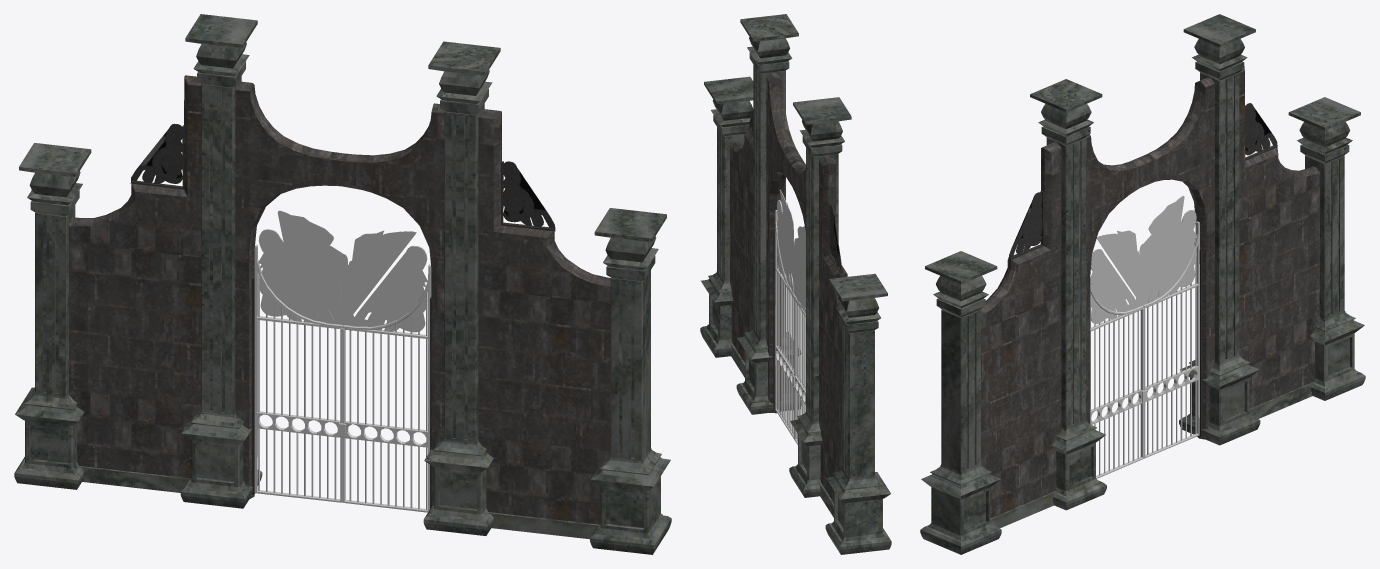
File: Cancello.fbx
3 views of the same model, side by side, from view 1: azimuth 30°, elevation 25°; view 2: azimuth 150°, elevation 25°; view 3: azimuth 270°, elevation 25° (orthographic). The views are drawn at different scales.
Parts seen in each view (by area): view 1: MuraCancello, Cancello_DX, Cancello_SN; view 2: MuraCancello, Cancello_SN, Cancello_DX; view 3: MuraCancello, Cancello_DX, Cancello_SN.
Boxes of the visible parts, left/top/right/bottom form: MuraCancello: left=14, top=14, right=671, bottom=554; Cancello_DX: left=254, top=210, right=342, bottom=502; Cancello_SN: left=338, top=230, right=431, bottom=512; MuraCancello: left=700, top=14, right=891, bottom=554; Cancello_SN: left=775, top=189, right=798, bottom=439; Cancello_DX: left=794, top=226, right=805, bottom=444; MuraCancello: left=920, top=14, right=1365, bottom=554; Cancello_DX: left=1143, top=195, right=1199, bottom=458; Cancello_SN: left=1090, top=230, right=1147, bottom=478.
Size of the model in its own units: 6.39 by 6.33 by 6.38.
